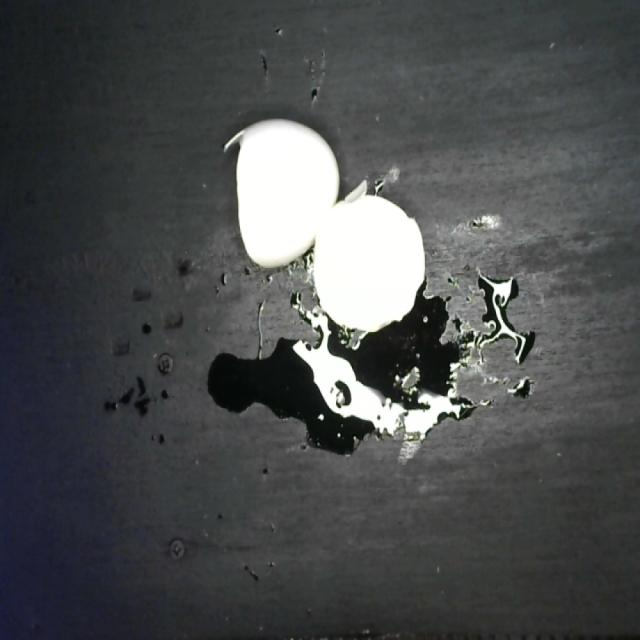biodegradable: (220, 102, 432, 343)
